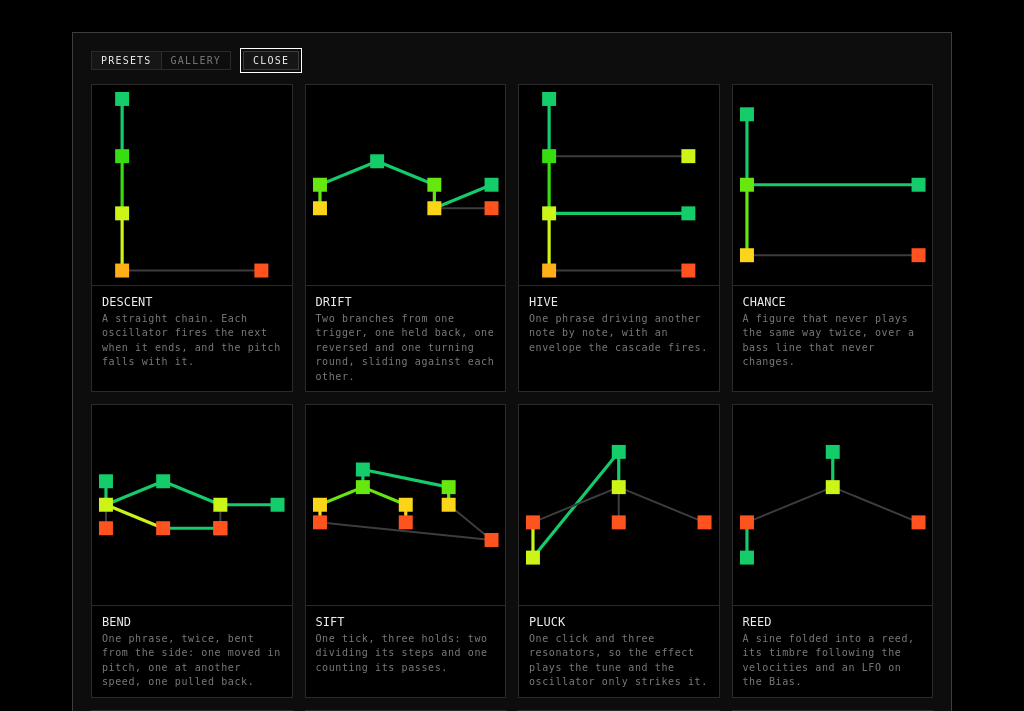
Test: Gallery › gives a star and takes it back
The width and height of the screenshot is (1024, 711).
Click the button "GALLERY" at [195, 60], box [160,52,230,69]
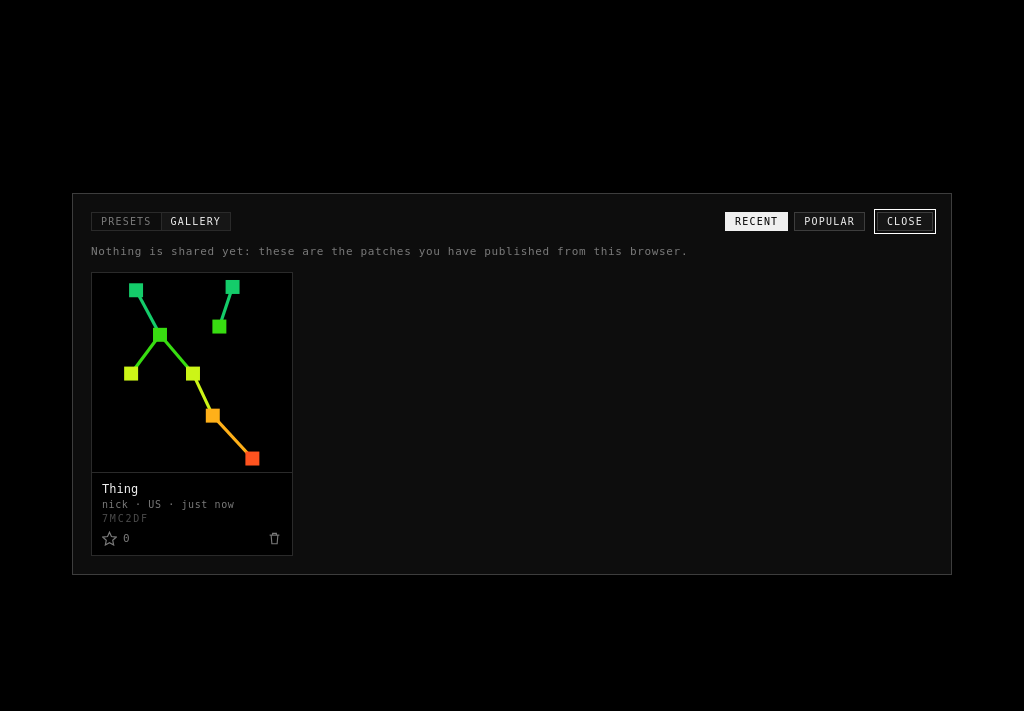
Click the button named "Give a star" at [110, 539], box [102,531,117,546]
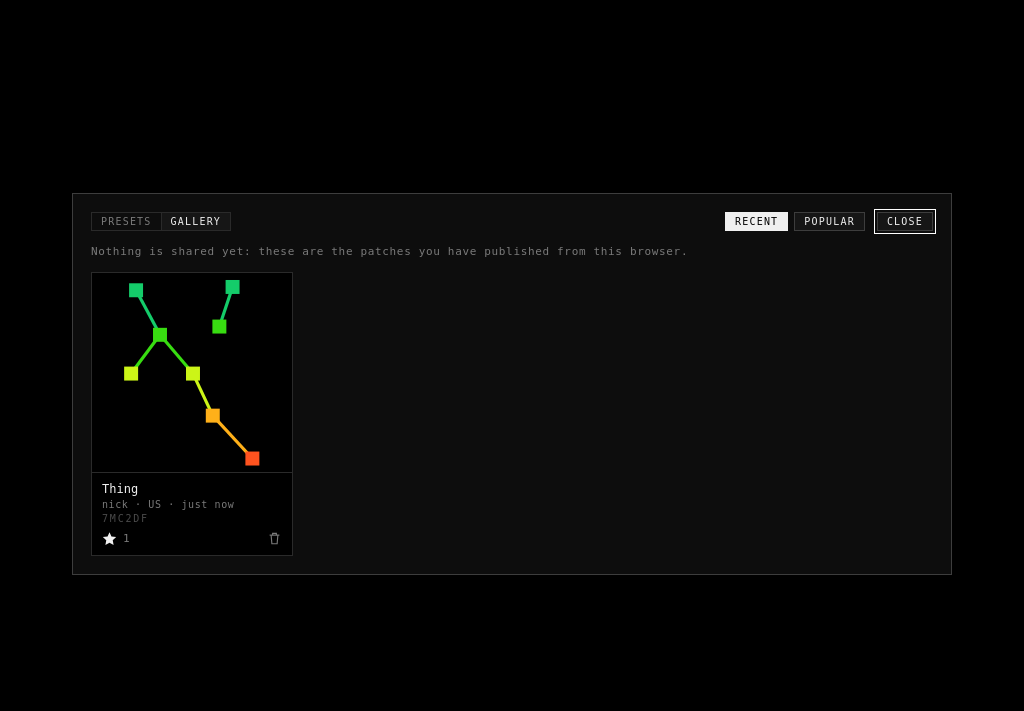
Expected: the button named "Remove star" is shown
Expected: the text "1" is shown, [123,532,130,545]
Click the button named "Remove star" at [110, 539], box [102,531,117,546]
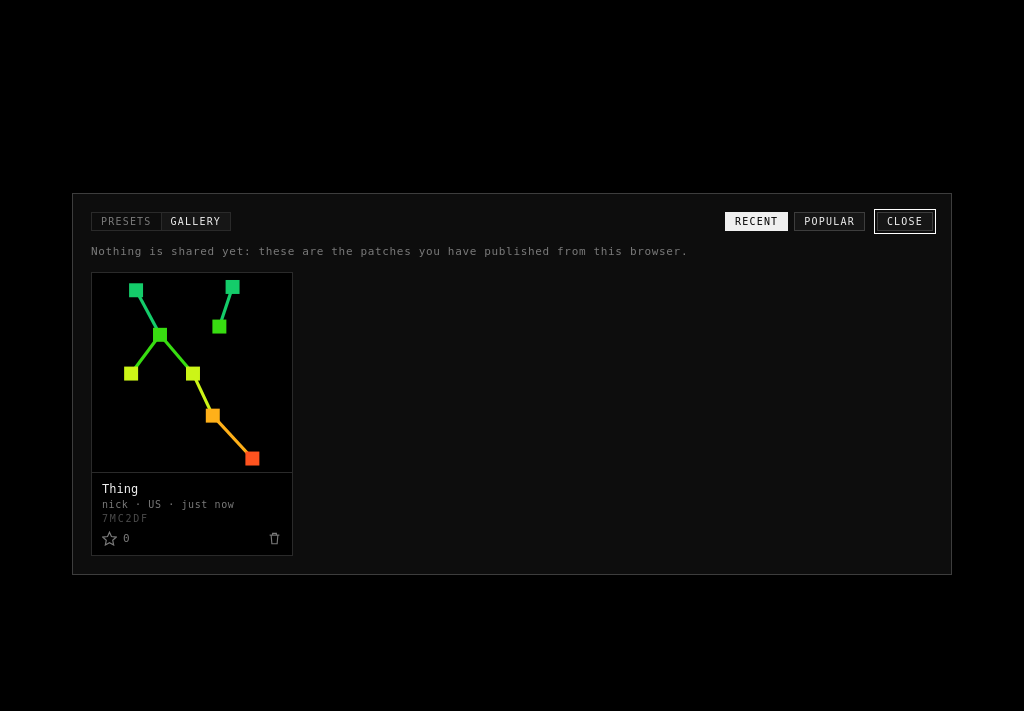
Expected: the button named "Give a star" is shown, [102,531,117,546]
Expected: the text "0" is shown, [123,532,130,545]
